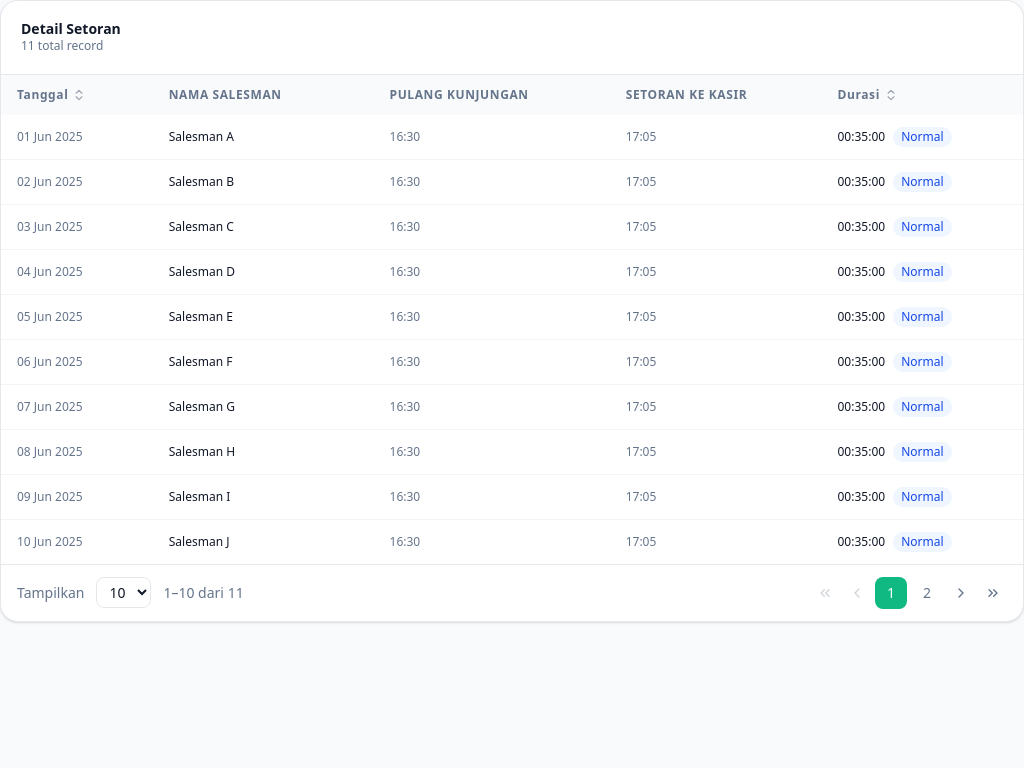
Scenario: Pagination › navigates to the next page
Click the button named "Halaman berikutnya".
click(961, 593)  # box [947,579,975,607]
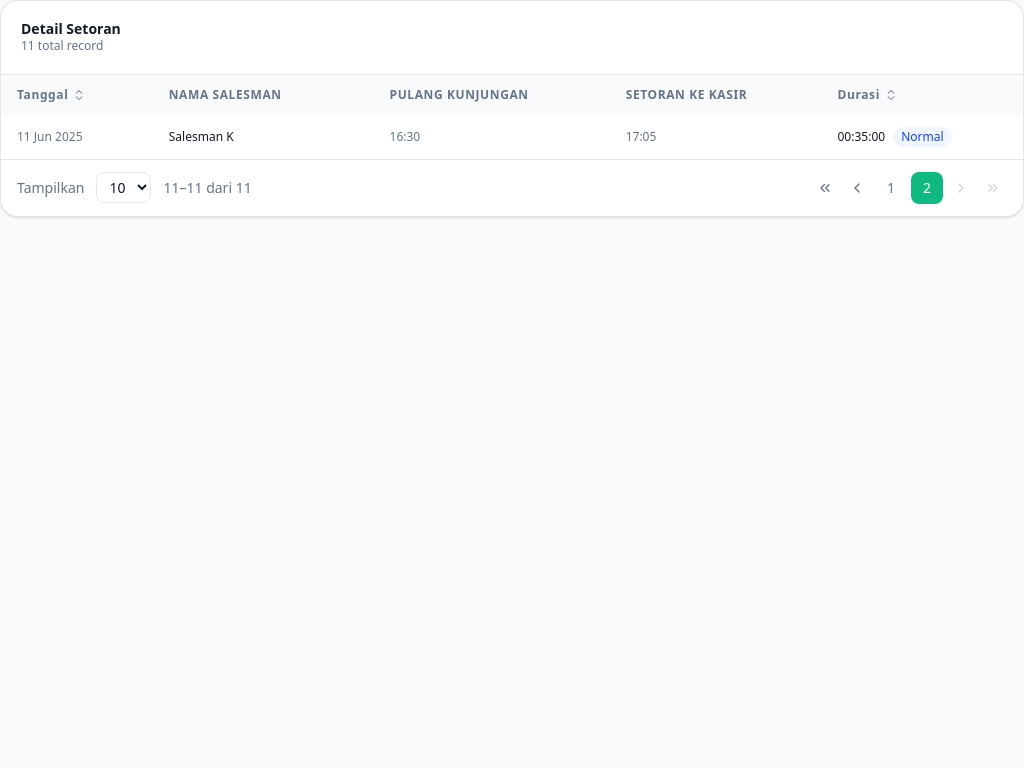
Now the text "Salesman K" is shown, box [153,115,374,159]
